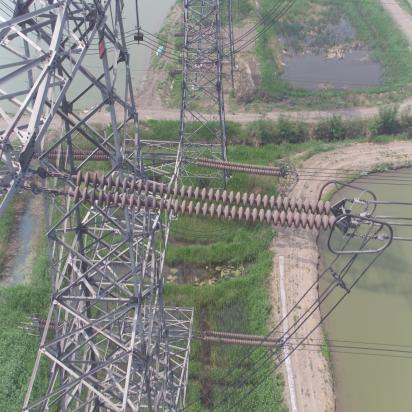insulator: (63, 169, 345, 234), (189, 155, 283, 178), (201, 330, 282, 349)
